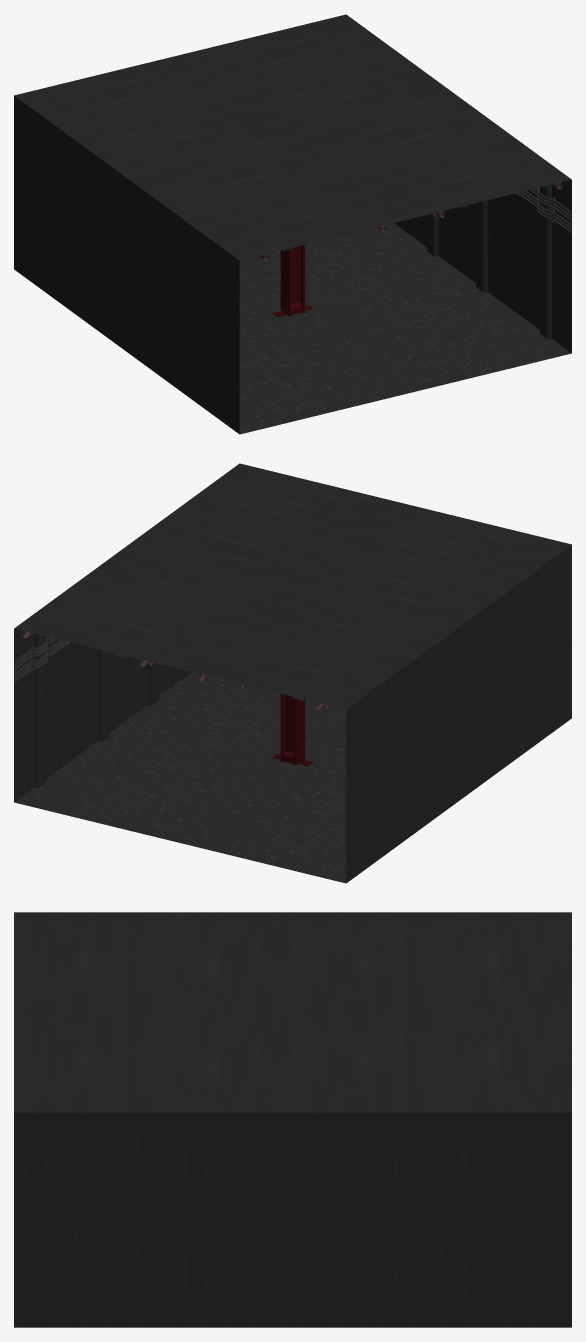
File: SW_ENV_RailTunnel_B_01_Double_10m_FF.fbx
3 views of the same model, one above another, from view 1: azimuth 30°, elevation 25°; view 2: azimuth 150°, elevation 25°; view 3: azimuth 270°, elevation 25° (orthographic). The views are drawn at different scales.
Visible parts, largest first — view 1: SW_ENV_RailTunnel_B_01_Double_10m_FF; view 2: SW_ENV_RailTunnel_B_01_Double_10m_FF; view 3: SW_ENV_RailTunnel_B_01_Double_10m_FF.
Boxes of the visible parts, x1=… form: SW_ENV_RailTunnel_B_01_Double_10m_FF: x1=14, y1=14, x2=571, y2=434; SW_ENV_RailTunnel_B_01_Double_10m_FF: x1=14, y1=463, x2=571, y2=883; SW_ENV_RailTunnel_B_01_Double_10m_FF: x1=14, y1=912, x2=571, y2=1327.
Size of the model in its own units: 8.5 by 4.25 by 10.
